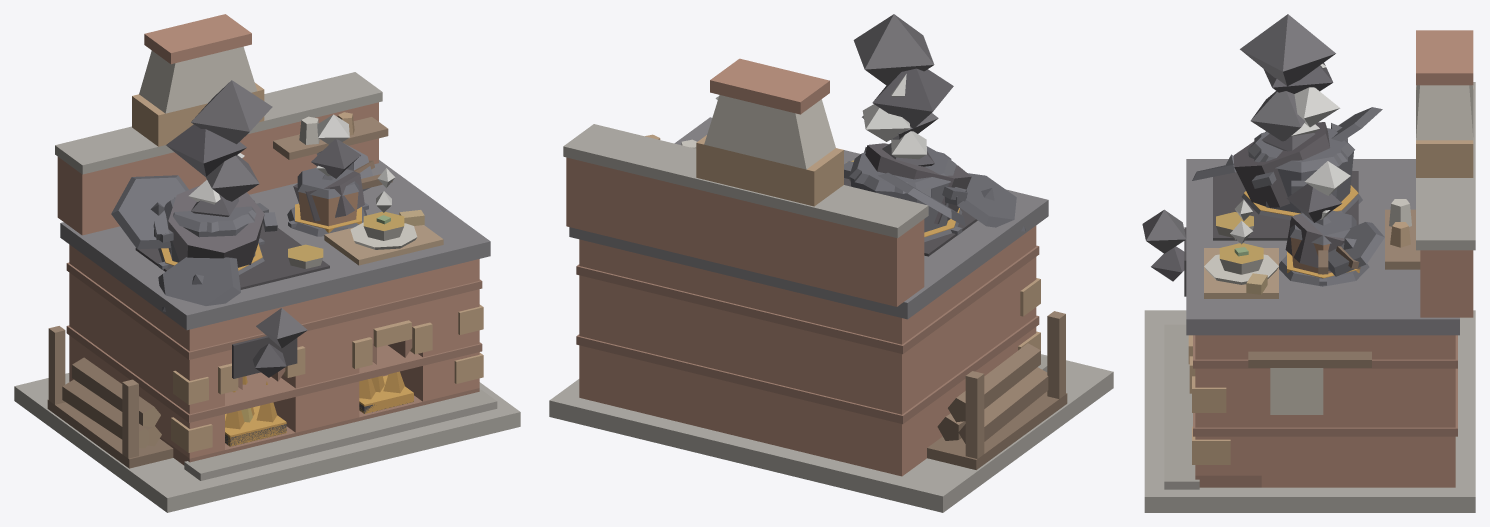
File: stove_station.glb
3 views of the same model, side by side, from view 1: azimuth 30°, elevation 25°; view 2: azimuth 150°, elevation 25°; view 3: azimuth 270°, elevation 25° (orthographic). The views are drawn at different scales.
Visible parts, largest first — view 1: base_brick_body, base_chimney, base_plinth, base_counter, state_fault_smoke, base_side_props, state_fault_pot_l, state_fault_scorch, state_busy_lids, state_done_dishes, state_idle_lids, state_busy_fire (+4 smaller); view 2: base_brick_body, base_chimney, base_plinth, base_side_props, base_counter, state_fault_smoke, state_fault_pot_l, state_busy_steam, state_idle_lids, state_busy_pots, state_busy_lids, state_done_pots; view 3: base_brick_body, base_counter, base_plinth, base_chimney, state_fault_smoke, base_side_props, state_fault_pot_l, state_done_dishes, state_fault_scorch, state_busy_lids, state_idle_lids, state_busy_steam (+5 smaller).
Boxes of the visible parts, box(x1,y1,x2,y2) form: base_brick_body: box(66, 244, 483, 465); base_chimney: box(55, 14, 388, 235); base_plinth: box(14, 373, 520, 512); base_counter: box(60, 160, 490, 330); state_fault_smoke: box(166, 80, 360, 377); base_side_props: box(47, 326, 173, 468); state_fault_pot_l: box(153, 185, 277, 311); state_fault_scorch: box(135, 222, 413, 445); state_busy_lids: box(111, 143, 372, 249); state_done_dishes: box(288, 210, 424, 268); state_idle_lids: box(164, 168, 359, 231); state_busy_fire: box(161, 203, 404, 429); base_brick_body: box(576, 225, 1040, 476); base_chimney: box(563, 58, 928, 306); base_plinth: box(549, 354, 1113, 512); base_side_props: box(927, 311, 1067, 469); base_counter: box(569, 117, 1048, 319); state_fault_smoke: box(853, 14, 953, 166); state_fault_pot_l: box(864, 143, 1025, 231); state_busy_steam: box(715, 74, 926, 159); state_idle_lids: box(849, 145, 956, 191); state_busy_pots: box(844, 161, 966, 232); state_busy_lids: box(878, 172, 965, 226); state_done_pots: box(854, 151, 951, 193); base_brick_body: box(1188, 335, 1457, 487); base_counter: box(1186, 159, 1459, 335); base_plinth: box(1144, 310, 1475, 512); base_chimney: box(1385, 30, 1475, 317); state_fault_smoke: box(1142, 14, 1342, 281); base_side_props: box(1248, 351, 1371, 414); state_fault_pot_l: box(1192, 122, 1329, 207); state_done_dishes: box(1204, 212, 1278, 294); state_fault_scorch: box(1184, 171, 1358, 296); state_busy_lids: box(1328, 107, 1384, 276); state_idle_lids: box(1247, 128, 1356, 245); state_busy_steam: box(1291, 63, 1350, 219).
Size of the model in its own units: 2 by 1.91 by 1.51.
